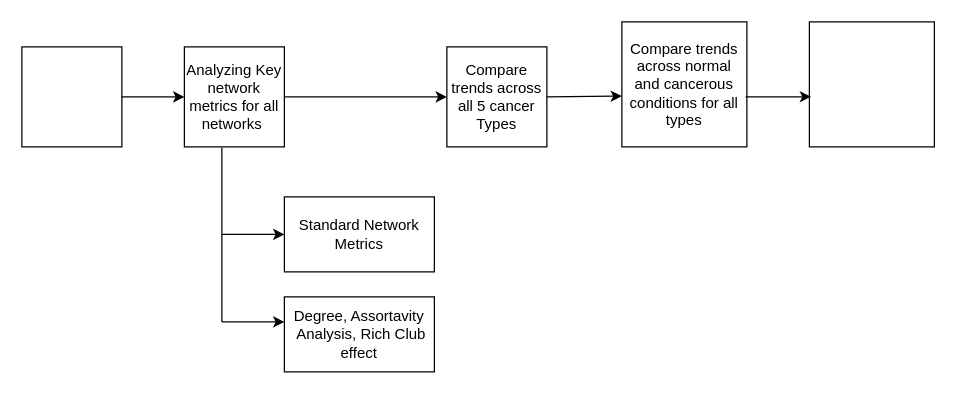
Some shapes in this 956 by 394 pixel diagram are drawn without their labels. The shapes that lost their labels are listed below. From the top down, each one's centre as x and y in pixels, then its label:
At point (71, 96): "Creating Network from Raw Dataset".
At point (871, 84): "Employ centrality measures to analyze and identify key proteins".
